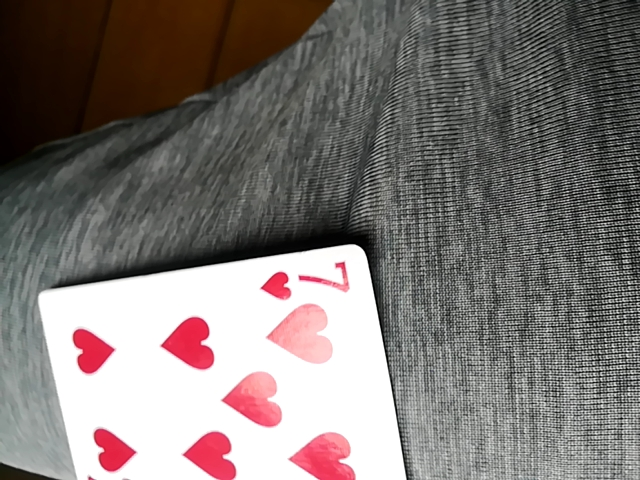hx 7: (42, 242, 415, 478)
